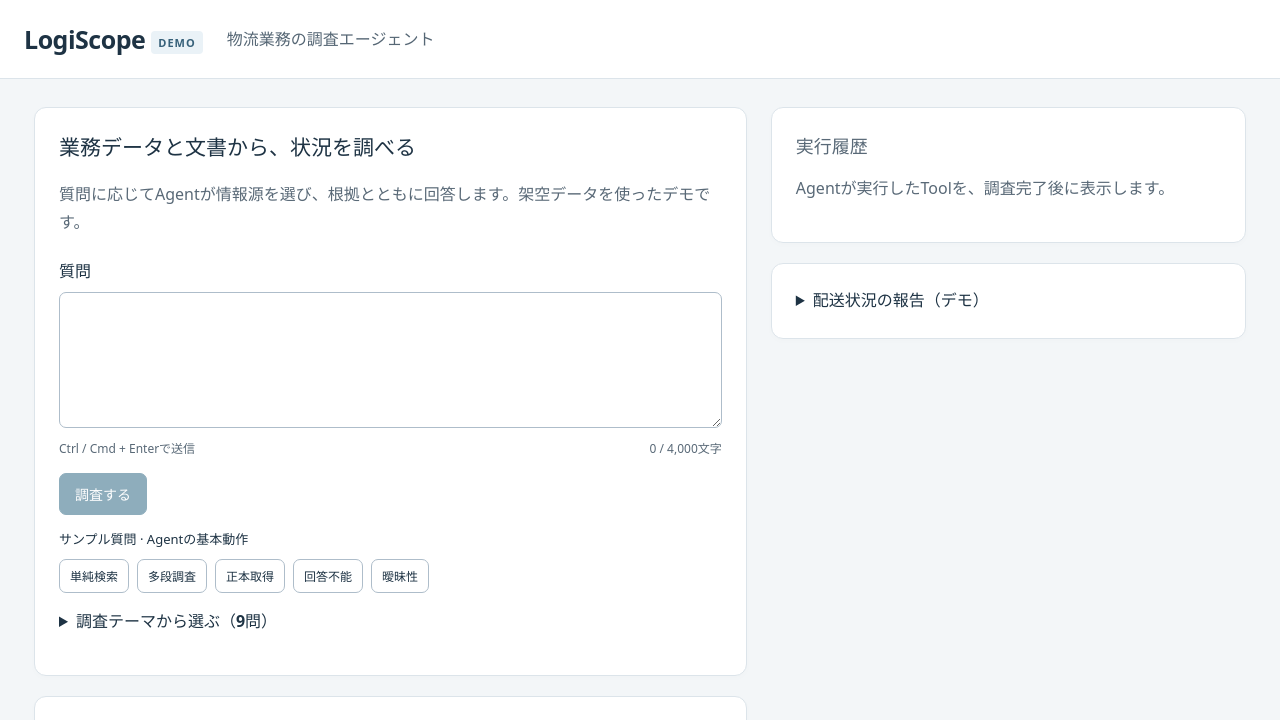
Scenario: invalid response is shown as an error, not a successful investigation
This screenshot has width=1280, height=720.
In the text box labelled "質問": (390,360) [59,292,722,428], type "遅延原因は？"
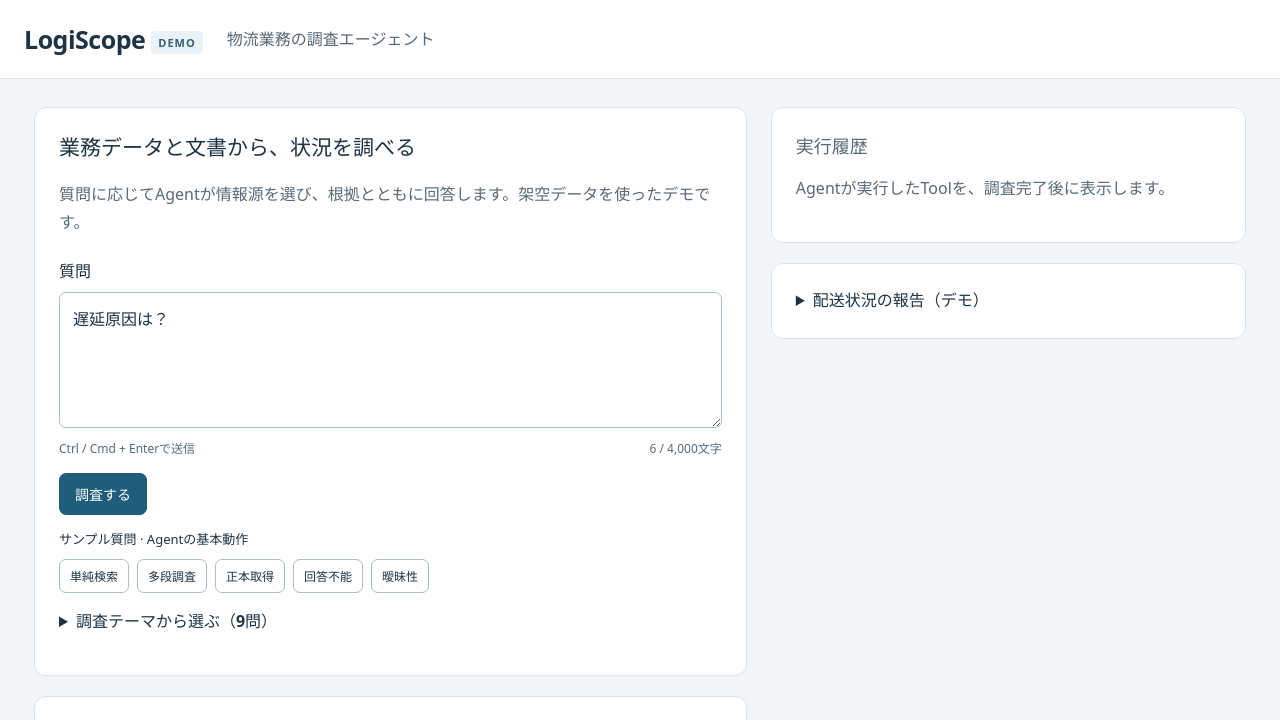
Submit the form "調査する", box [59,258,722,515]
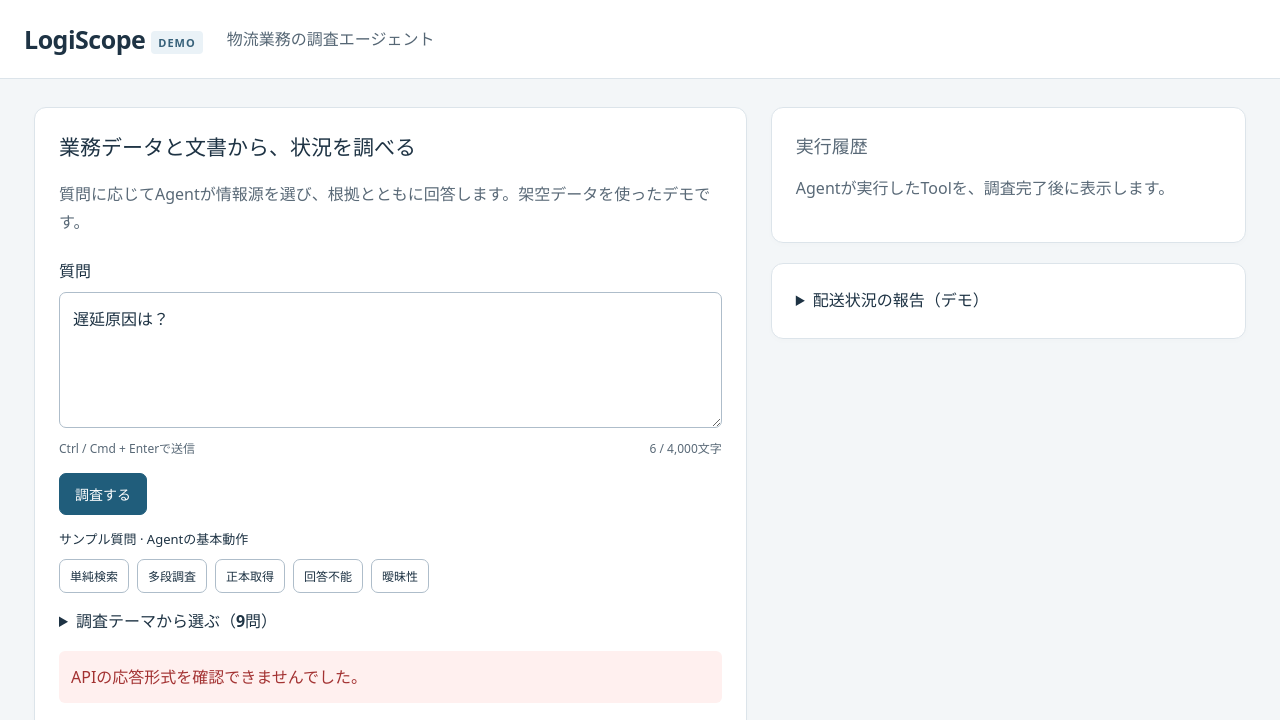
Expected: the message "APIの応答形式を確認できませんでした。" is shown, [59,651,722,703]
